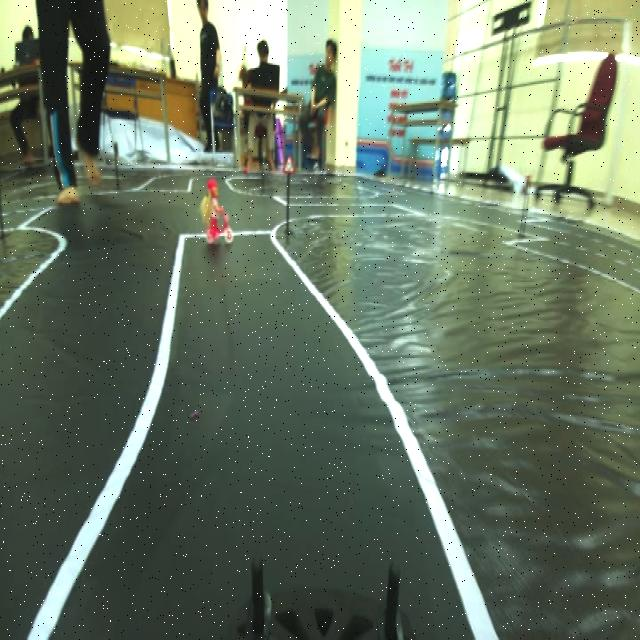pedestrian: (198, 172, 238, 254)
